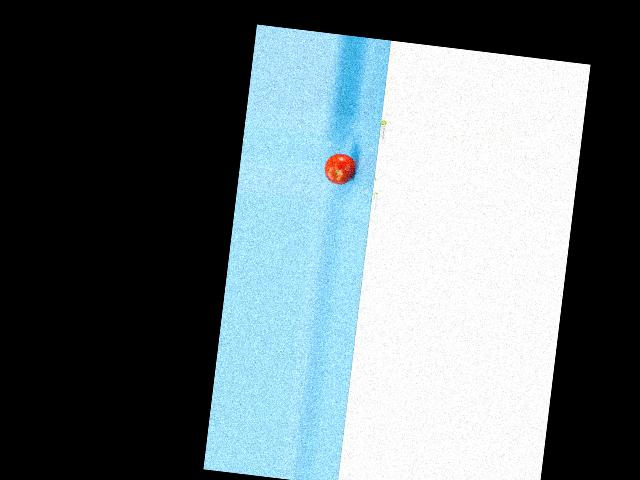tomato: (323, 152, 356, 186)
